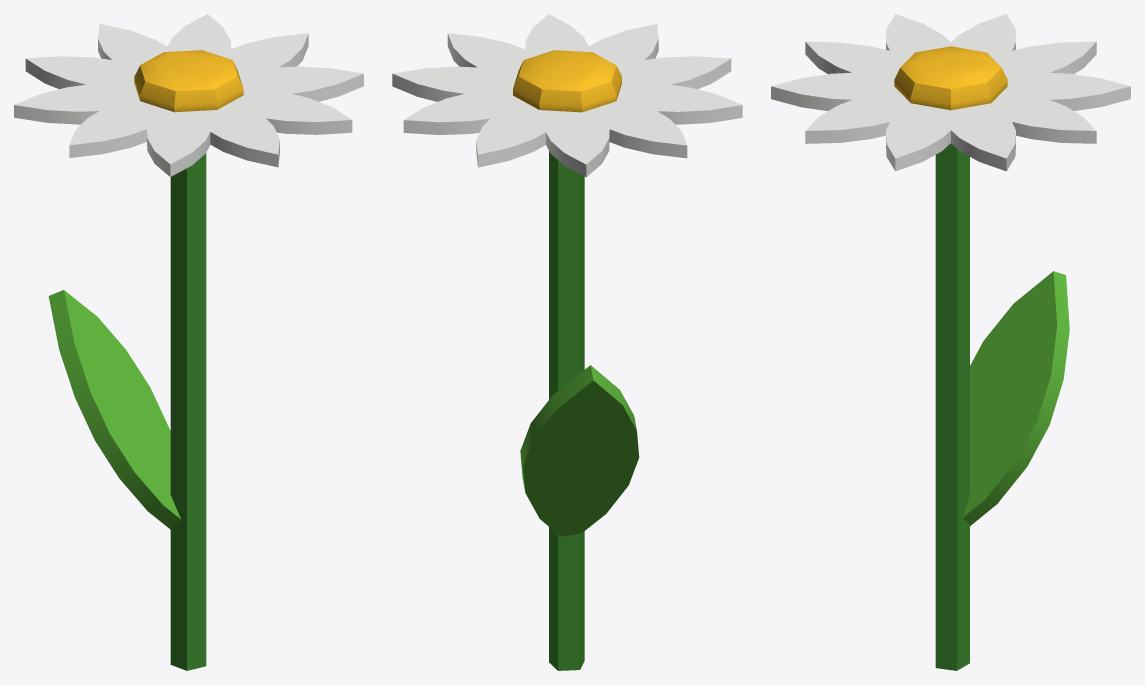
The model's file is Daisy.fbx.
The picture shows the model from 3 angles, left to right: view 1: azimuth 30°, elevation 25°; view 2: azimuth 150°, elevation 25°; view 3: azimuth 270°, elevation 25°; orthographic projection.
Visible parts, largest first — view 1: Daisy; view 2: Daisy; view 3: Daisy.
Part boxes in pixels (bbox=[...]): Daisy: bbox=[14, 14, 363, 670]; Daisy: bbox=[392, 14, 742, 670]; Daisy: bbox=[771, 14, 1130, 670].
Size of the model in its own units: 0.7228 by 1.4 by 0.76.
Materials: 1 (1 with a texture image).
